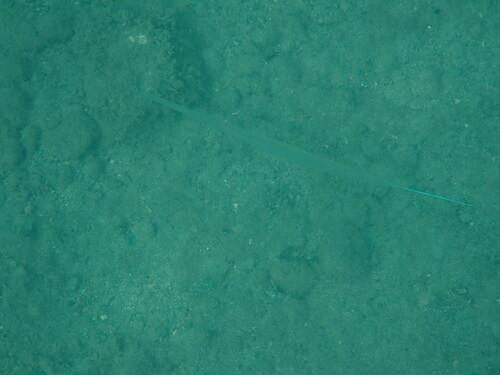Fistularia commersonii: (120, 51, 500, 231)
